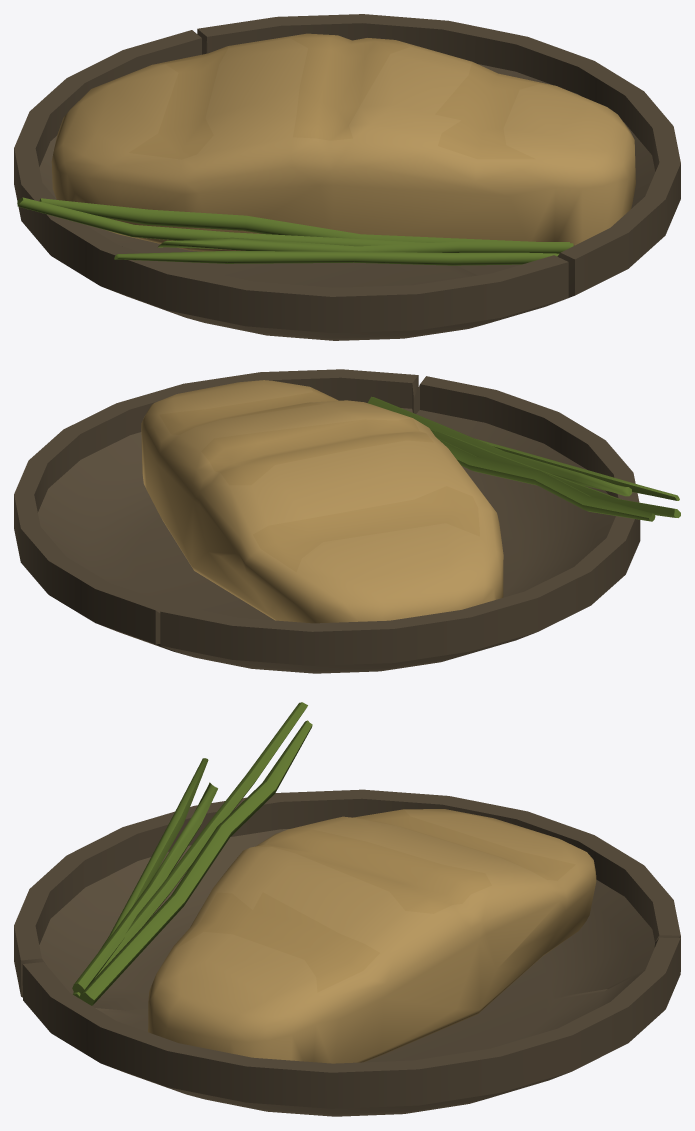
File: piatto di pane.fbx
3 views of the same model, one above another, from view 1: azimuth 30°, elevation 25°; view 2: azimuth 150°, elevation 25°; view 3: azimuth 270°, elevation 25° (orthographic). The views are drawn at different scales.
Visible parts, largest first — view 1: Circle.047; view 2: Circle.047; view 3: Circle.047.
Boxes of the visible parts, <box> form: Circle.047: <box>14,14,680,340</box>; Circle.047: <box>14,369,680,673</box>; Circle.047: <box>14,702,680,1116</box>.
Size of the model in its own units: 48.64 by 11.22 by 43.75.
